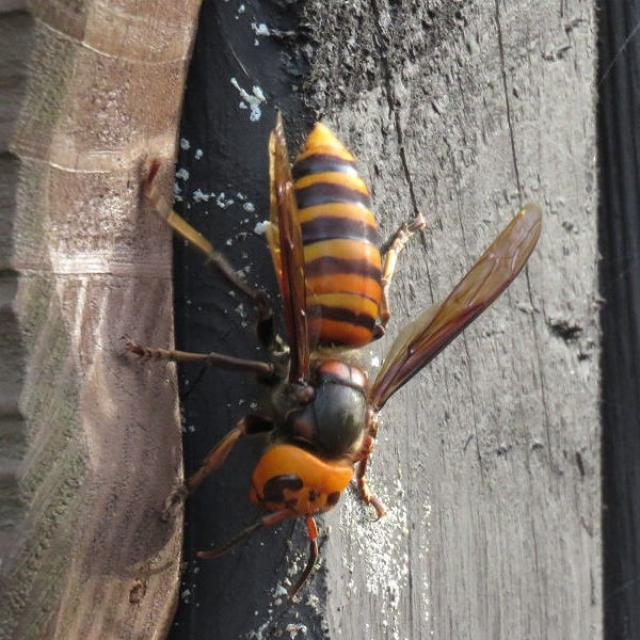Wasp: (134, 99, 538, 586)
